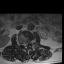CCS_normal: (24, 40, 26, 50)
LFS_severe_stenosis: (28, 40, 30, 45)
LLS_normal: (26, 40, 28, 48)
RFS_stenosis: (21, 41, 23, 47)
RLS_normal: (23, 40, 24, 48)
